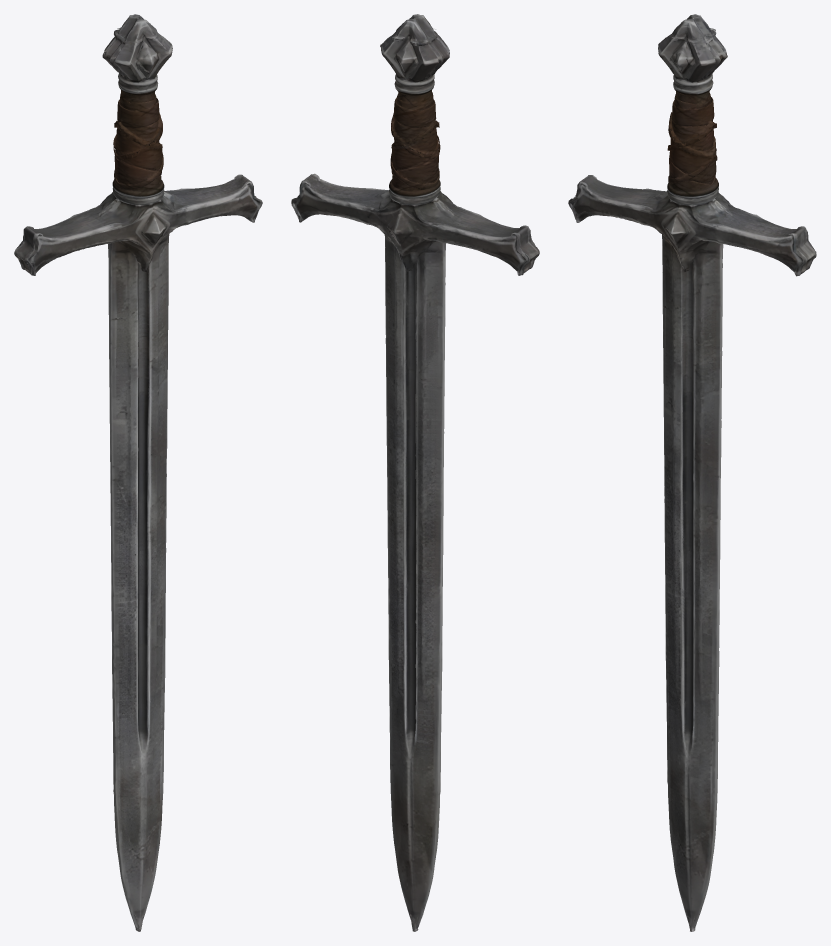
The model's file is sword-r0.glb.
The picture shows the model from 3 angles, left to right: view 1: azimuth 30°, elevation 25°; view 2: azimuth 150°, elevation 25°; view 3: azimuth 330°, elevation 25°; orthographic projection.
Visible parts, largest first — view 1: tripo_node_d96781a6-105f-4f27-b855-7ae92b85bfef; view 2: tripo_node_d96781a6-105f-4f27-b855-7ae92b85bfef; view 3: tripo_node_d96781a6-105f-4f27-b855-7ae92b85bfef.
Boxes of the visible parts, x1,y1,x2,y2 form: tripo_node_d96781a6-105f-4f27-b855-7ae92b85bfef: (14,14,262,931); tripo_node_d96781a6-105f-4f27-b855-7ae92b85bfef: (291,14,539,931); tripo_node_d96781a6-105f-4f27-b855-7ae92b85bfef: (568,14,816,931).
Size of the model in its own units: 0.2699 by 0.9855 by 0.0829.
Materials: 1 (1 with a texture image).
